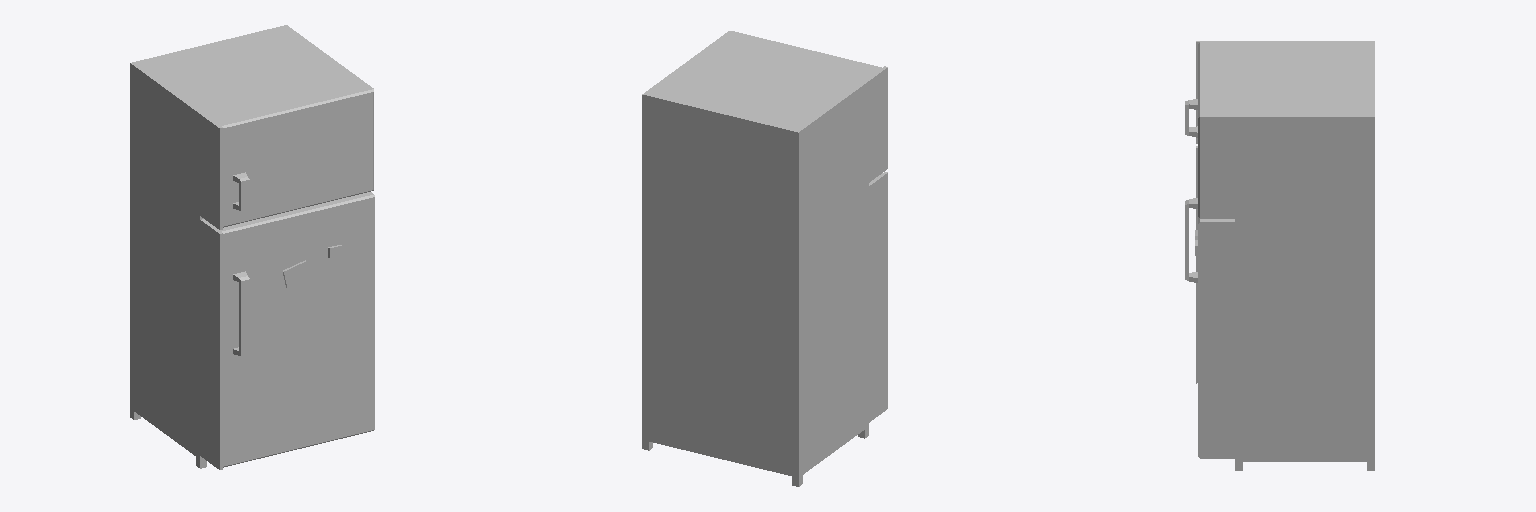
File: frigo.obj
The picture shows the model from 3 angles: view 1: azimuth 30°, elevation 25°; view 2: azimuth 150°, elevation 25°; view 3: azimuth 270°, elevation 25°; orthographic projection.
Visible parts, largest first — view 1: Fridge_Cube; view 2: Fridge_Cube; view 3: Fridge_Cube.
Part boxes in pixels (bbox=[...]): Fridge_Cube: bbox=[130, 25, 374, 469]; Fridge_Cube: bbox=[642, 31, 887, 486]; Fridge_Cube: bbox=[1185, 41, 1374, 470].
Bounding box in the file's own units: 9 × 19.5 × 9.48.